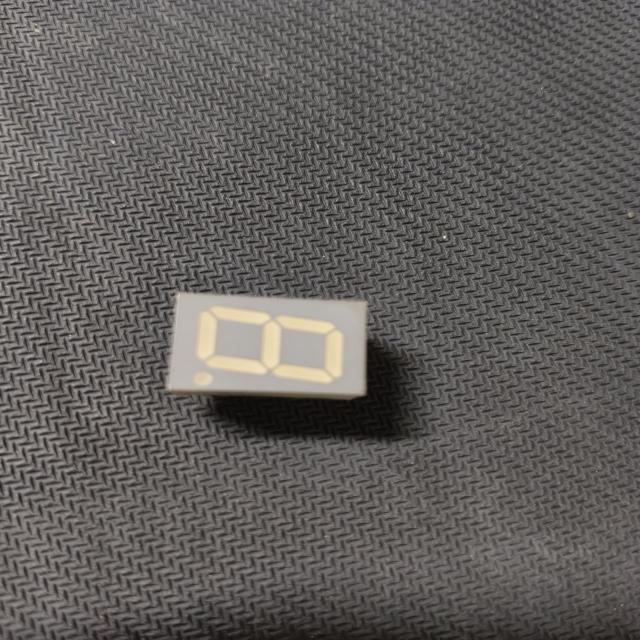sevensegment: (158, 285, 388, 408)
